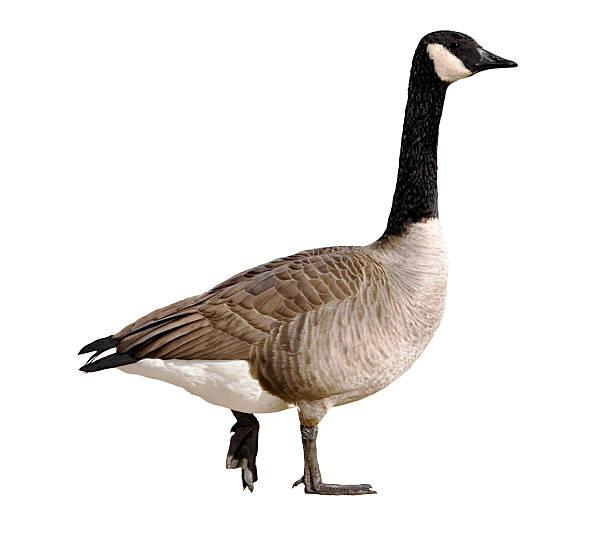Canadian-Goose: (85, 27, 522, 501)
